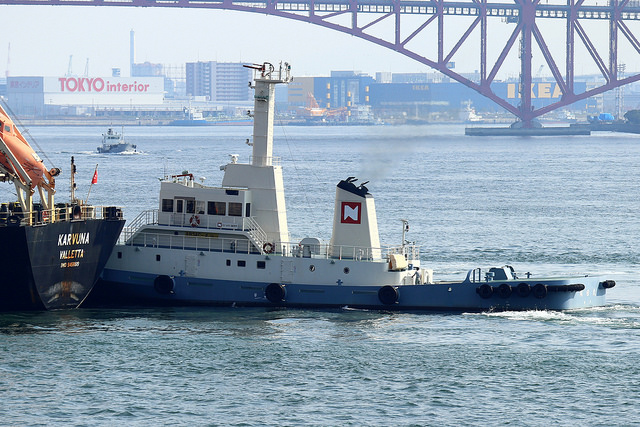boat: (94, 127, 146, 159)
tug_boat: (103, 77, 615, 331)
